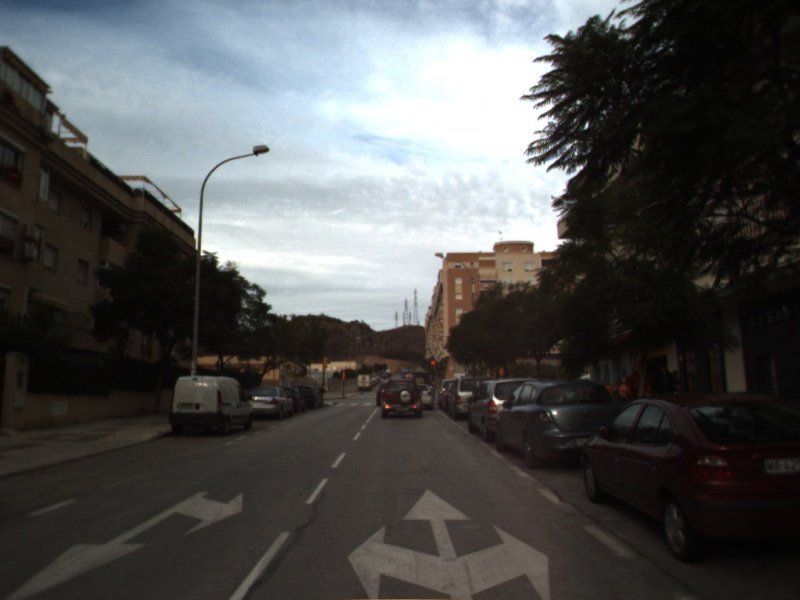STRAIGHT_LEFT_RIGHT: (343, 484, 555, 600)
